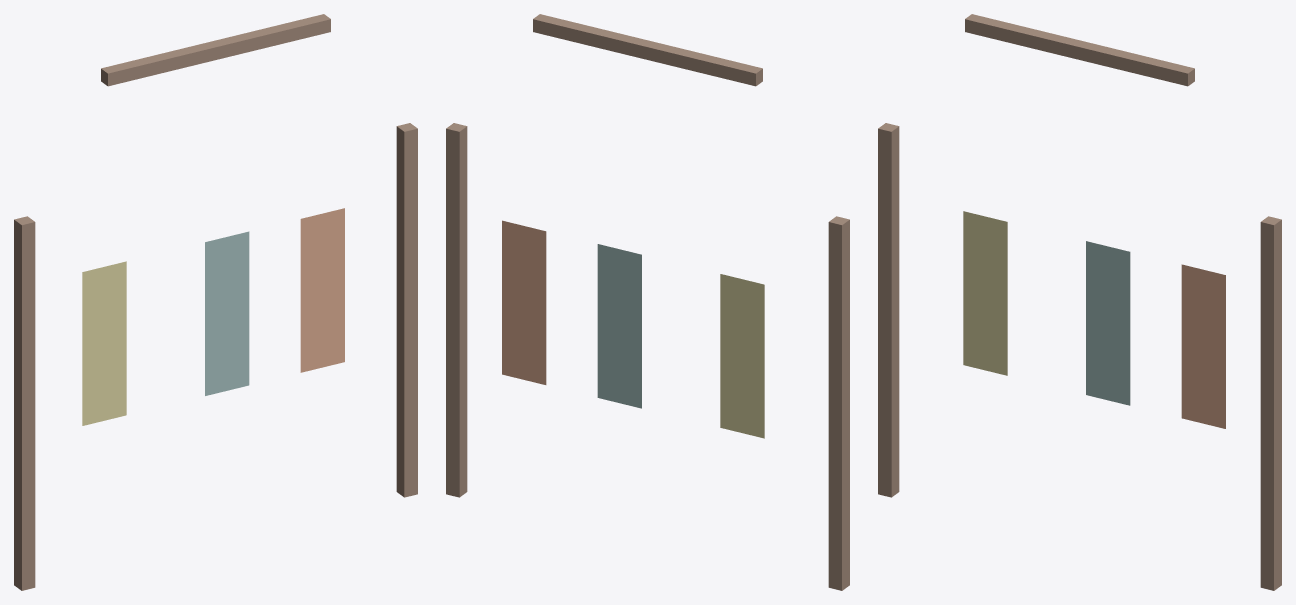
Rendered from harbour-sail-rack-01.glb.
The picture shows the model from 3 angles, left to right: view 1: azimuth 30°, elevation 25°; view 2: azimuth 150°, elevation 25°; view 3: azimuth 330°, elevation 25°; orthographic projection.
Parts seen in each view (by area): view 1: Post_1, Post_0, Sail_0, Sail_2, Sail_1, Crossbar; view 2: Post_1, Post_0, Sail_0, Sail_1, Sail_2, Crossbar; view 3: Post_0, Post_1, Sail_0, Sail_1, Sail_2, Crossbar.
Boxes of the visible parts, x1,y1,x2,y2 form: Post_1: (396, 123, 417, 497); Post_0: (14, 216, 35, 590); Sail_0: (82, 261, 126, 425); Sail_2: (300, 208, 344, 372); Sail_1: (205, 231, 249, 395); Crossbar: (101, 14, 330, 86); Post_1: (446, 123, 467, 497); Post_0: (828, 216, 849, 590); Sail_0: (720, 274, 764, 438); Sail_1: (597, 244, 641, 408); Sail_2: (502, 220, 546, 384); Crossbar: (533, 14, 762, 86); Post_0: (878, 123, 899, 497); Post_1: (1260, 216, 1281, 590); Sail_0: (963, 211, 1007, 375); Sail_1: (1086, 241, 1130, 405); Sail_2: (1181, 264, 1225, 428); Crossbar: (965, 14, 1194, 86).
Bounding box in the file's own units: 1.61 × 1.93 × 0.0875.
